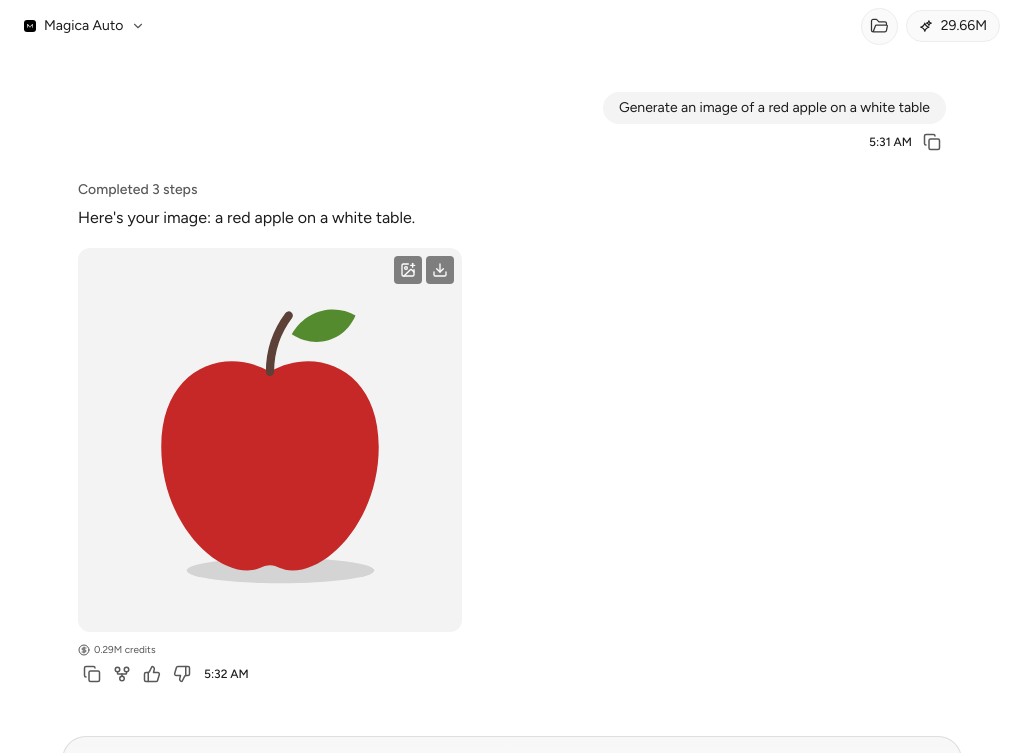
Test case: the image preview (magica's centered dialog) › opens on a picture click, with the picture and its details
Click the button named "Open A red apple on a white table".
click(270, 440)  # box [78,248,462,632]
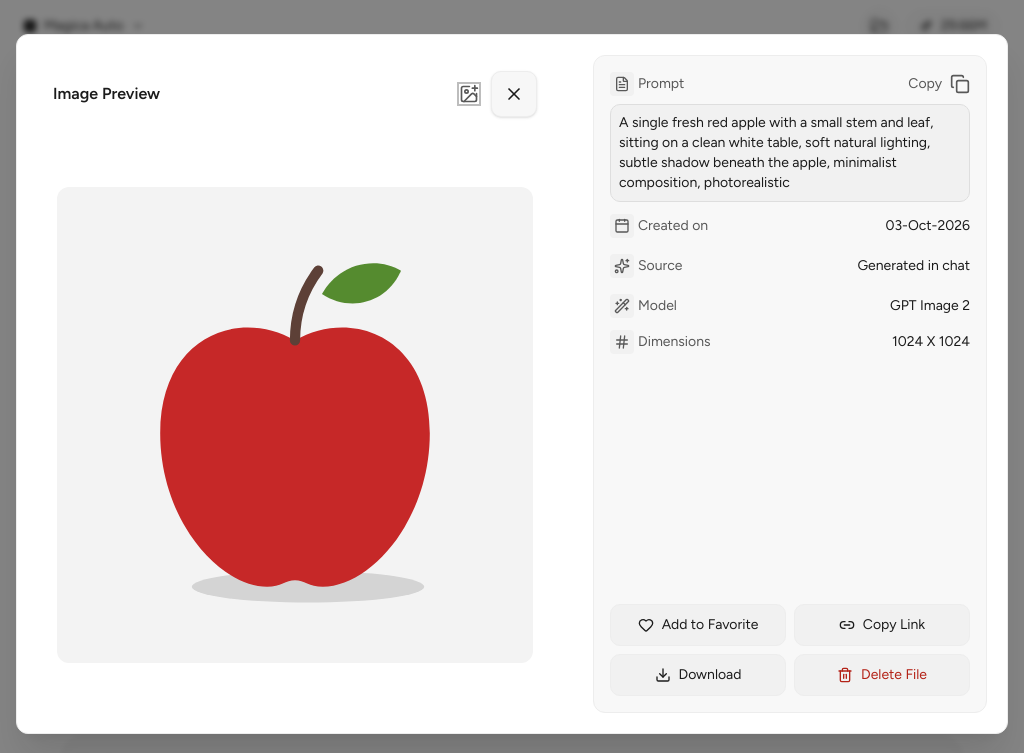
Check: the text "A single fresh red apple" is shown, box [619,114,937,191]
Check: the text "GPT Image 2" is shown, box [890,296,970,316]
Check: the text "1024 X 1024" is shown, box [892,332,970,352]
